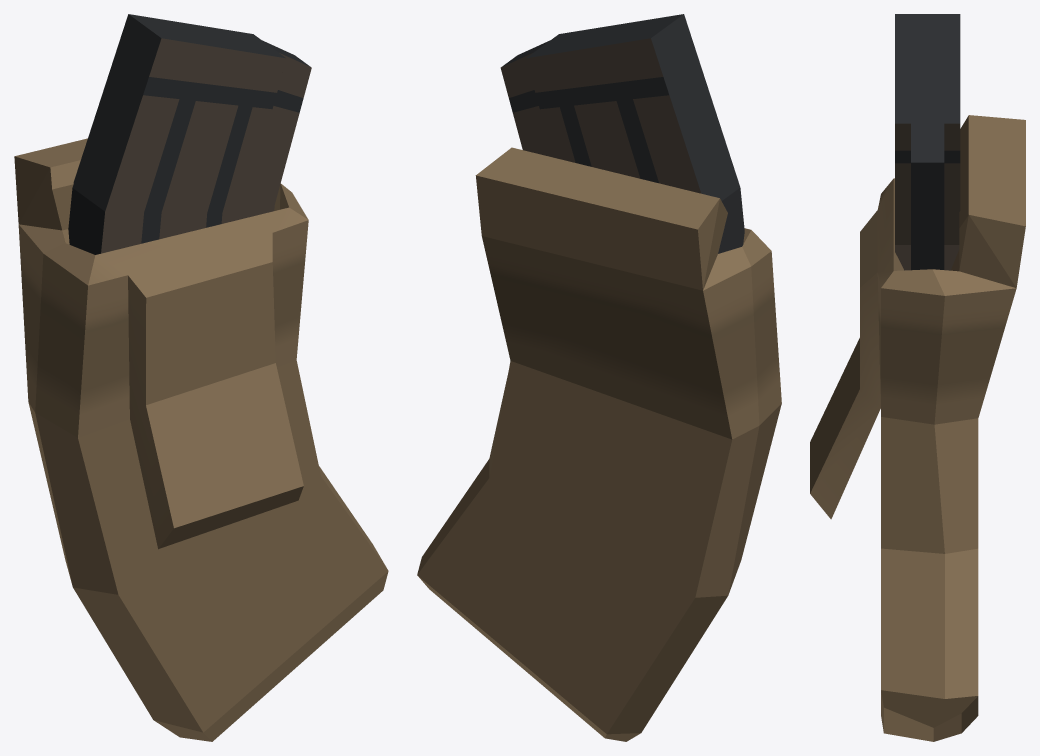
Rendered from SM_Chr_Attach_Pouch_Mag_Single_02.fbx.
The picture shows the model from 3 angles, left to right: view 1: azimuth 30°, elevation 25°; view 2: azimuth 150°, elevation 25°; view 3: azimuth 270°, elevation 25°; orthographic projection.
Visible parts, largest first — view 1: SM_Chr_Attach_Pouch_Mag_Single_02; view 2: SM_Chr_Attach_Pouch_Mag_Single_02; view 3: SM_Chr_Attach_Pouch_Mag_Single_02.
Part boxes in pixels (<box>): SM_Chr_Attach_Pouch_Mag_Single_02: <box>14,14,388,741</box>; SM_Chr_Attach_Pouch_Mag_Single_02: <box>417,14,781,741</box>; SM_Chr_Attach_Pouch_Mag_Single_02: <box>810,14,1025,741</box>.
Bounding box in the file's own units: 15.61 × 31.94 × 8.8.
